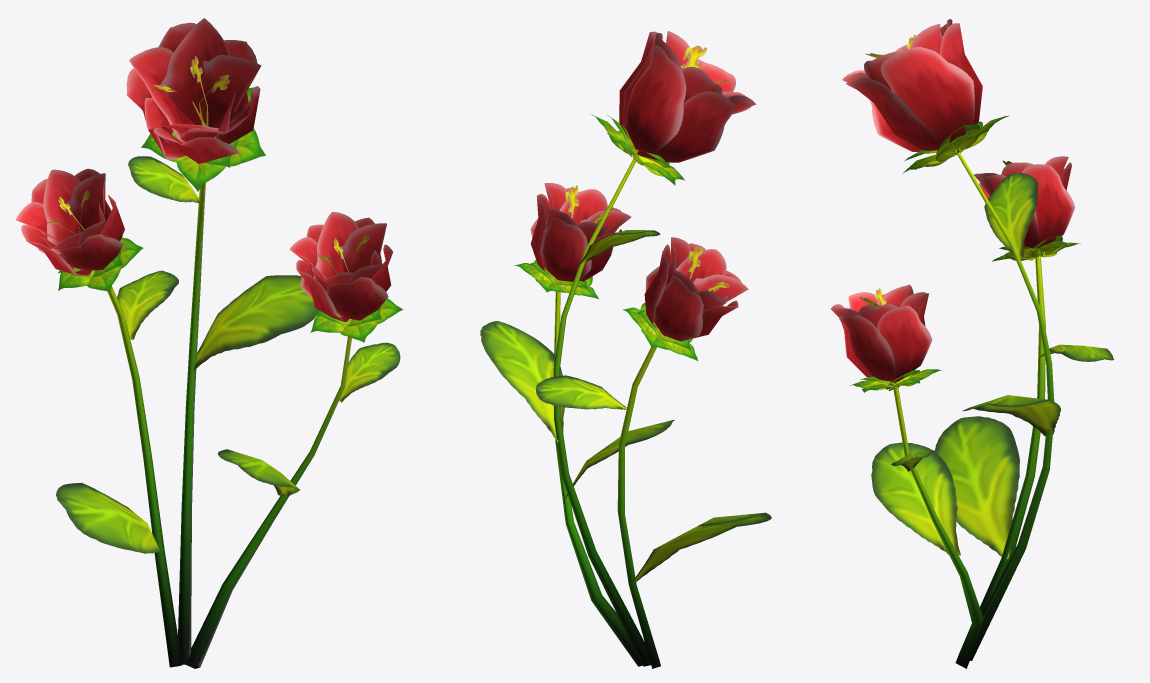
Rendered from Flower02_Dream.glb.
3 renders of one model, left to right at view 1: azimuth 30°, elevation 25°; view 2: azimuth 150°, elevation 25°; view 3: azimuth 270°, elevation 25°, orthographic. The views are drawn at different scales.
Visible parts, largest first — view 1: Flower02_dream; view 2: Flower02_dream; view 3: Flower02_dream.
Part boxes in pixels (<box>): Flower02_dream: <box>16,18,403,668</box>; Flower02_dream: <box>480,31,771,668</box>; Flower02_dream: <box>831,19,1113,668</box>.
Bounding box in the file's own units: 0.4402 × 0.8446 × 0.3632.
1 material, 1 textured.
